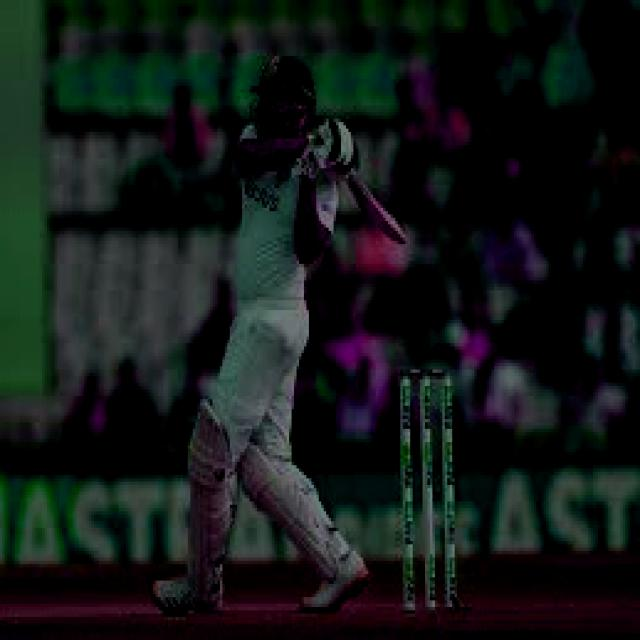toe: (390, 226, 414, 253)
